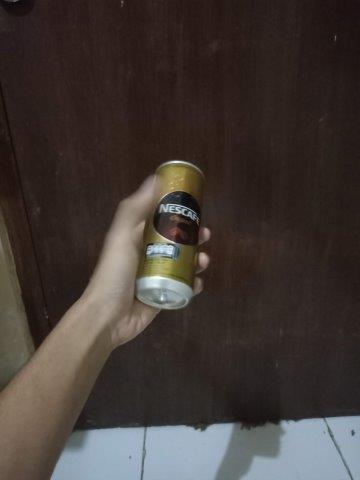kaleng: (135, 160, 206, 308)
